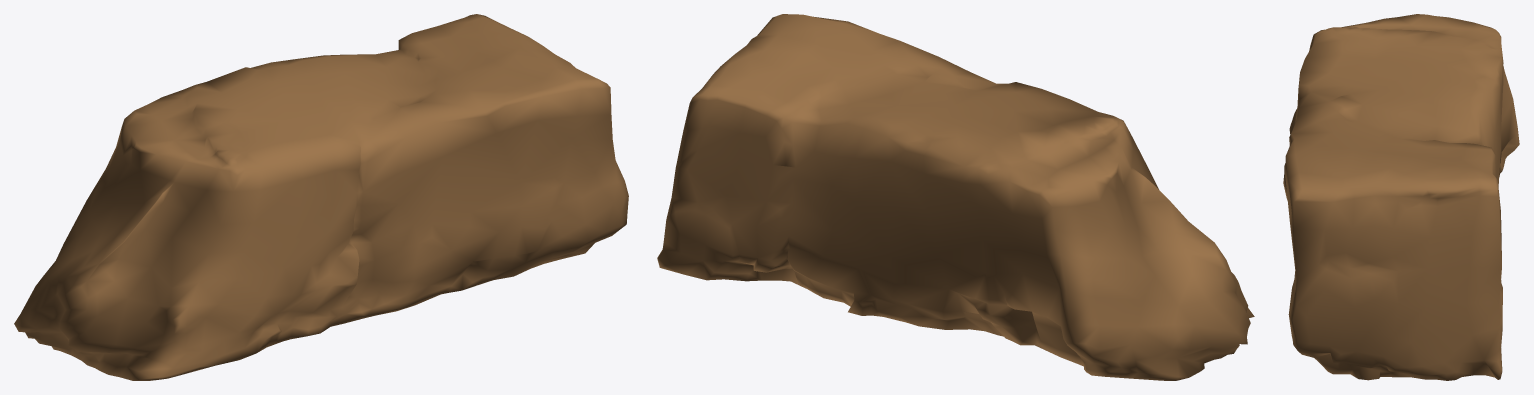
Rendered from MSH_Rocks_Cliff_02_b.FBX.
The picture shows the model from 3 angles, left to right: view 1: azimuth 30°, elevation 25°; view 2: azimuth 150°, elevation 25°; view 3: azimuth 270°, elevation 25°; orthographic projection.
Visible parts, largest first — view 1: MESH_LOD0; view 2: MESH_LOD0; view 3: MESH_LOD0.
Boxes of the visible parts, x1=… form: MESH_LOD0: x1=14, y1=14, x2=628, y2=380; MESH_LOD0: x1=657, y1=14, x2=1254, y2=380; MESH_LOD0: x1=1283, y1=14, x2=1519, y2=380.
Size of what is drawn, in the model's own units: 925 by 314 by 347.
